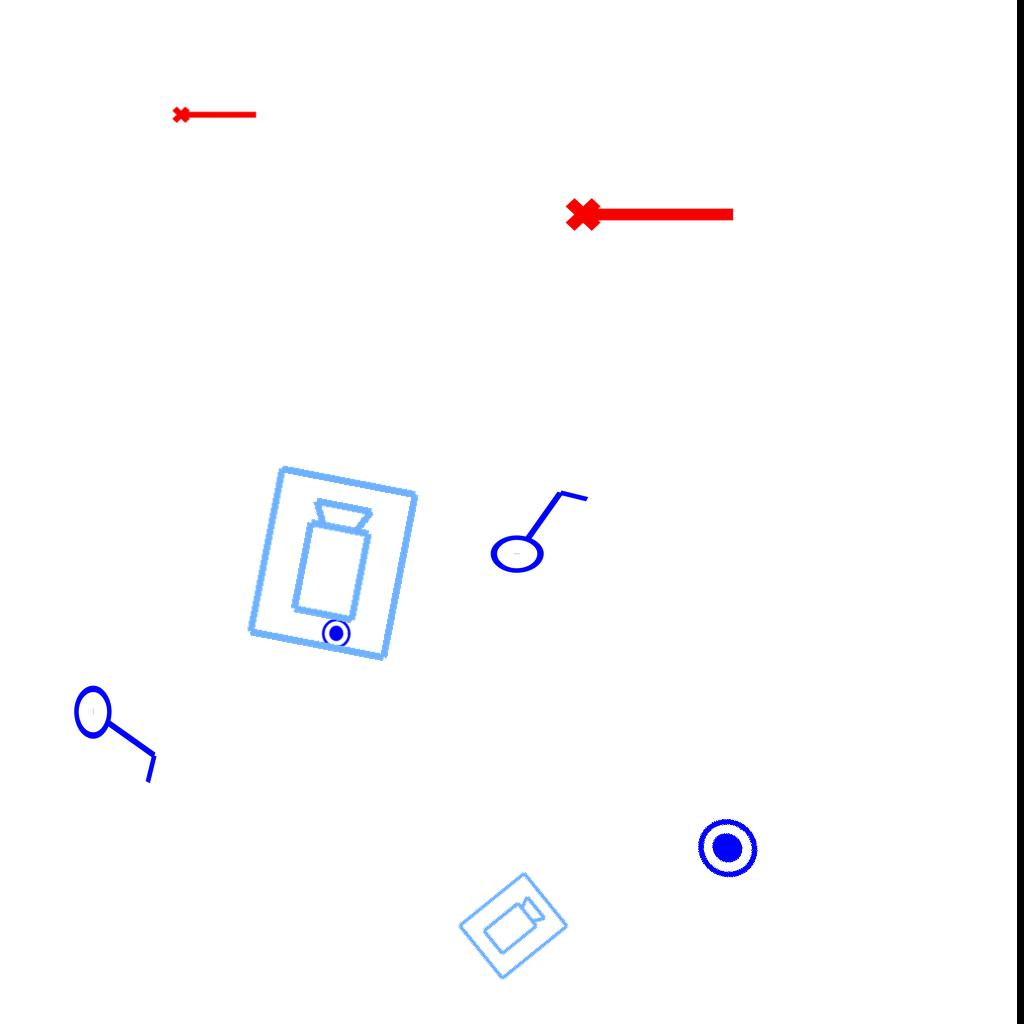ASR_Ansaugoeffnung: (563, 189, 739, 235), (171, 102, 259, 125)
Ausschalter: (71, 674, 167, 786), (479, 480, 591, 576)
KFO_Kamera_mit_Festobjektiv: (241, 459, 427, 669), (453, 867, 574, 986)
Taster: (683, 800, 775, 892), (321, 617, 354, 650)
